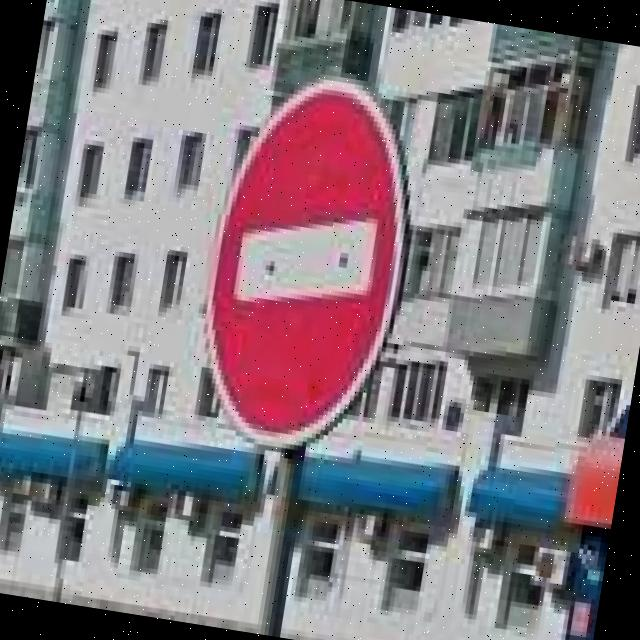Zakaz wjazdu: (182, 56, 436, 468)
